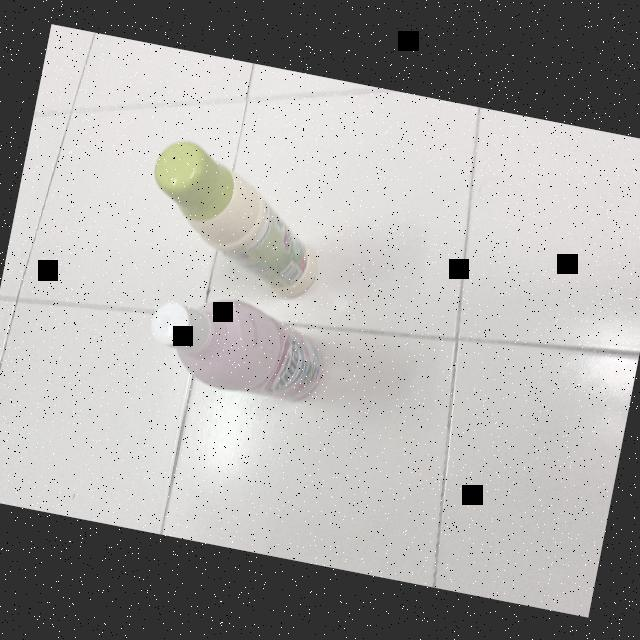chemical_plastic_bottle: (130, 132, 336, 303), (139, 278, 337, 412)
